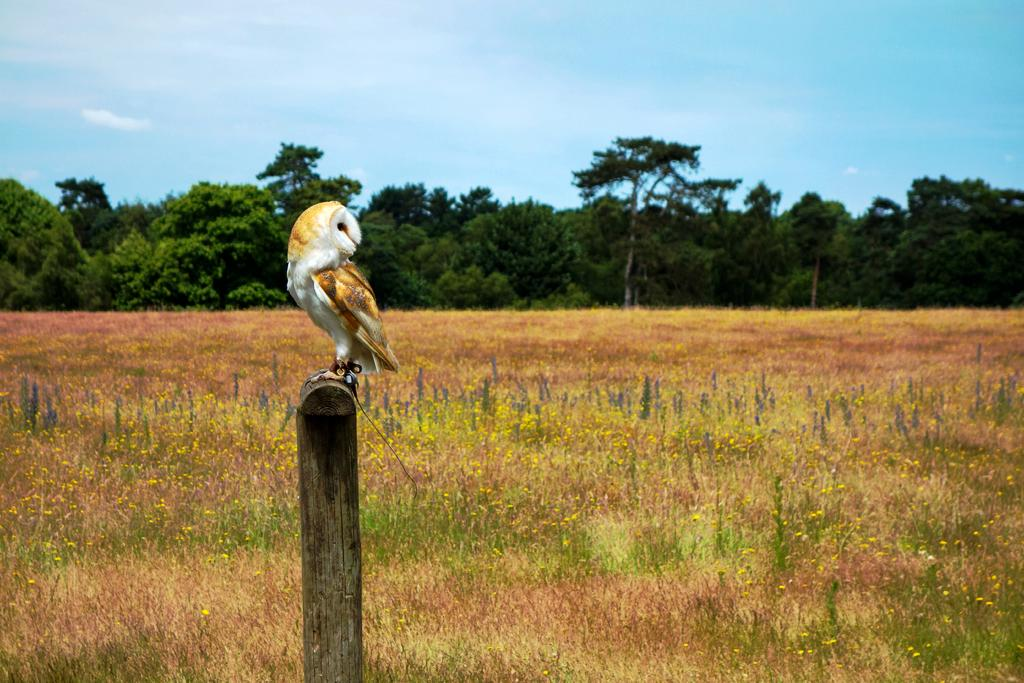Owl: (282, 197, 396, 389)
